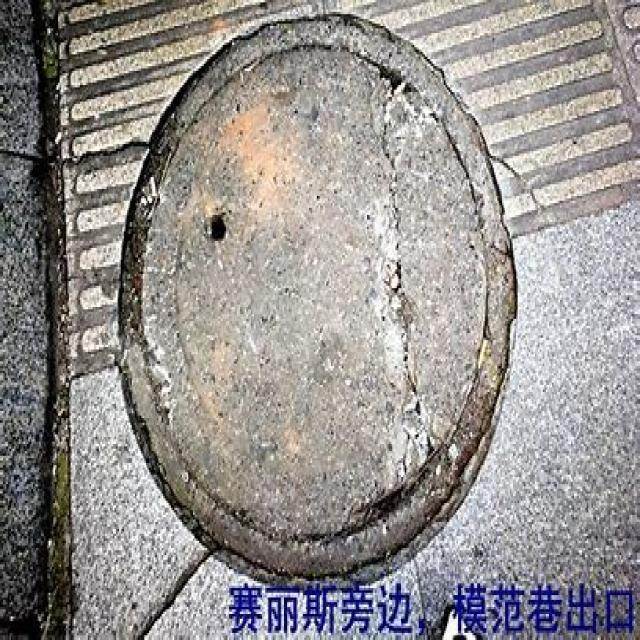manhole: (113, 14, 519, 585)
